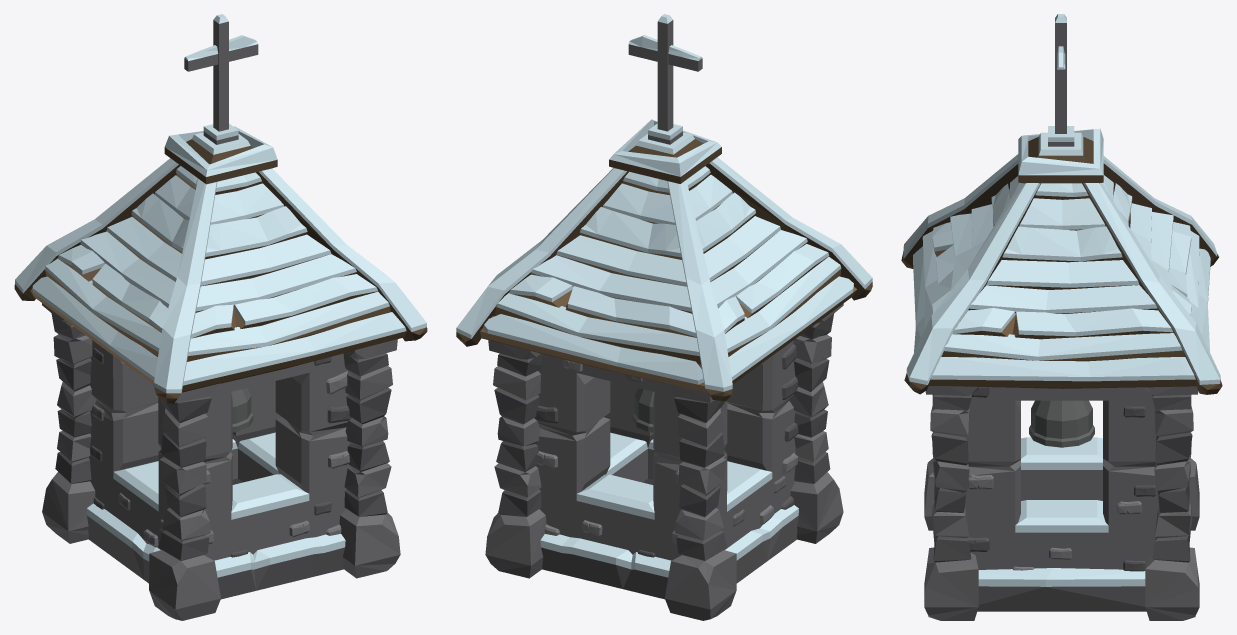
The model's file is SM_Bld_Church_Tower_01_Snow.gltf.
3 renders of one model, left to right at view 1: azimuth 30°, elevation 25°; view 2: azimuth 150°, elevation 25°; view 3: azimuth 270°, elevation 25°, orthographic. The views are drawn at different scales.
Visible parts, largest first — view 1: SM_Bld_Church_Tower_01_Snow; view 2: SM_Bld_Church_Tower_01_Snow; view 3: SM_Bld_Church_Tower_01_Snow.
Boxes of the visible parts, box(x1,y1,x2,y2) form: SM_Bld_Church_Tower_01_Snow: box(14, 14, 427, 620); SM_Bld_Church_Tower_01_Snow: box(456, 14, 872, 620); SM_Bld_Church_Tower_01_Snow: box(901, 14, 1222, 620).
Size of the model in its own units: 3.59 by 6.72 by 3.56.
Materials: 1 (1 with a texture image).
